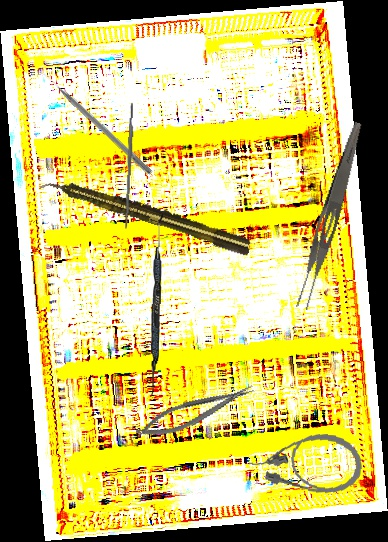Cannula: (246, 425, 366, 498)
Dressing Forceps: (292, 119, 366, 312)
Handpiece: (38, 171, 254, 258)
Needle Holder: (132, 379, 259, 445)
Pusher: (41, 70, 155, 176)
Scalpel Handle: (123, 101, 136, 230)
Spatula Surgical: (149, 212, 164, 396)
